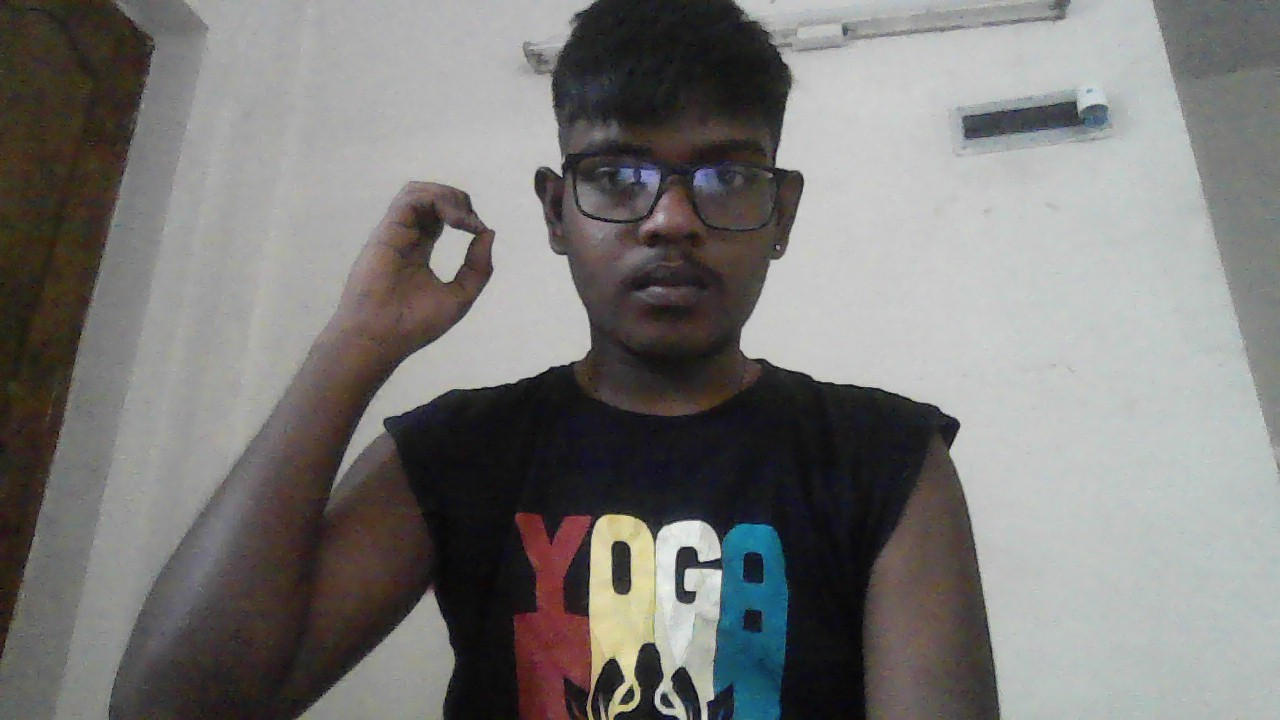O: (347, 180, 497, 349)
